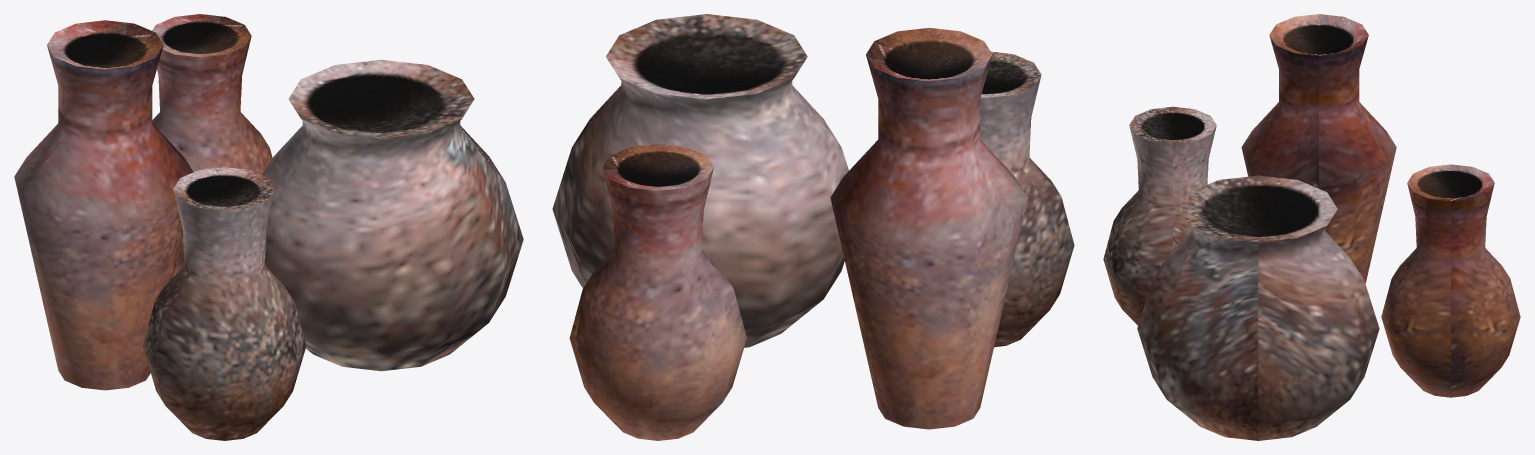
The model's file is pots.fbx.
3 renders of one model, left to right at view 1: azimuth 30°, elevation 25°; view 2: azimuth 150°, elevation 25°; view 3: azimuth 270°, elevation 25°, orthographic. The views are drawn at different scales.
Visible parts, largest first — view 1: Pots; view 2: Pots; view 3: Pots.
Part boxes in pixels (x1=…): Pots: x1=14, y1=14, x2=523, y2=440; Pots: x1=552, y1=14, x2=1074, y2=440; Pots: x1=1103, y1=14, x2=1520, y2=440.
Size of the model in its own units: 1.02 by 0.719 by 0.9798.
